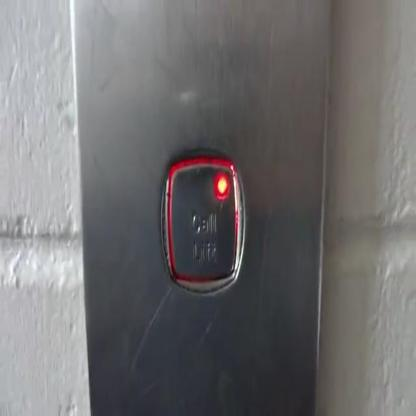text_call lift: (154, 141, 251, 298)
